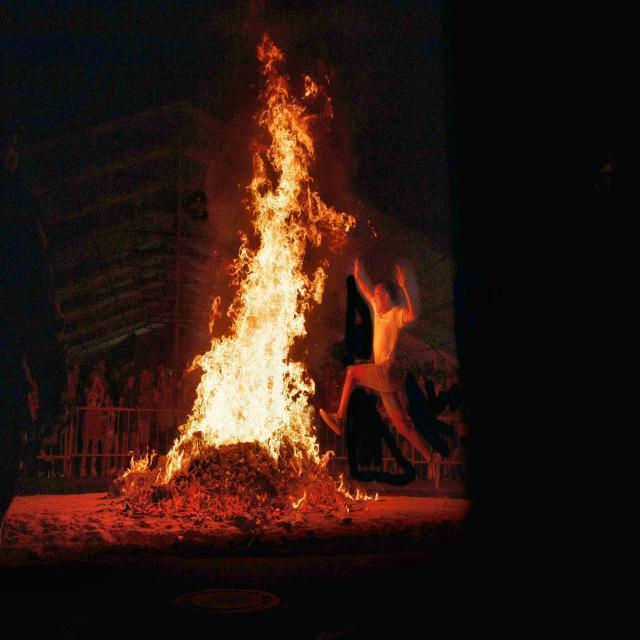fire: (167, 100, 320, 445)
